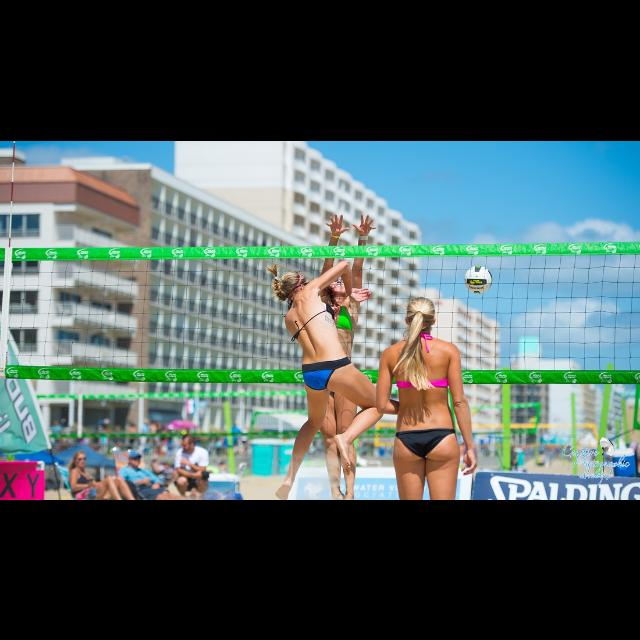head: (404, 297, 438, 333), (282, 271, 312, 301), (326, 267, 354, 295), (182, 434, 196, 454), (73, 450, 87, 468), (129, 452, 141, 466)
